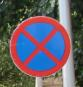No Parking: (11, 17, 71, 78)
